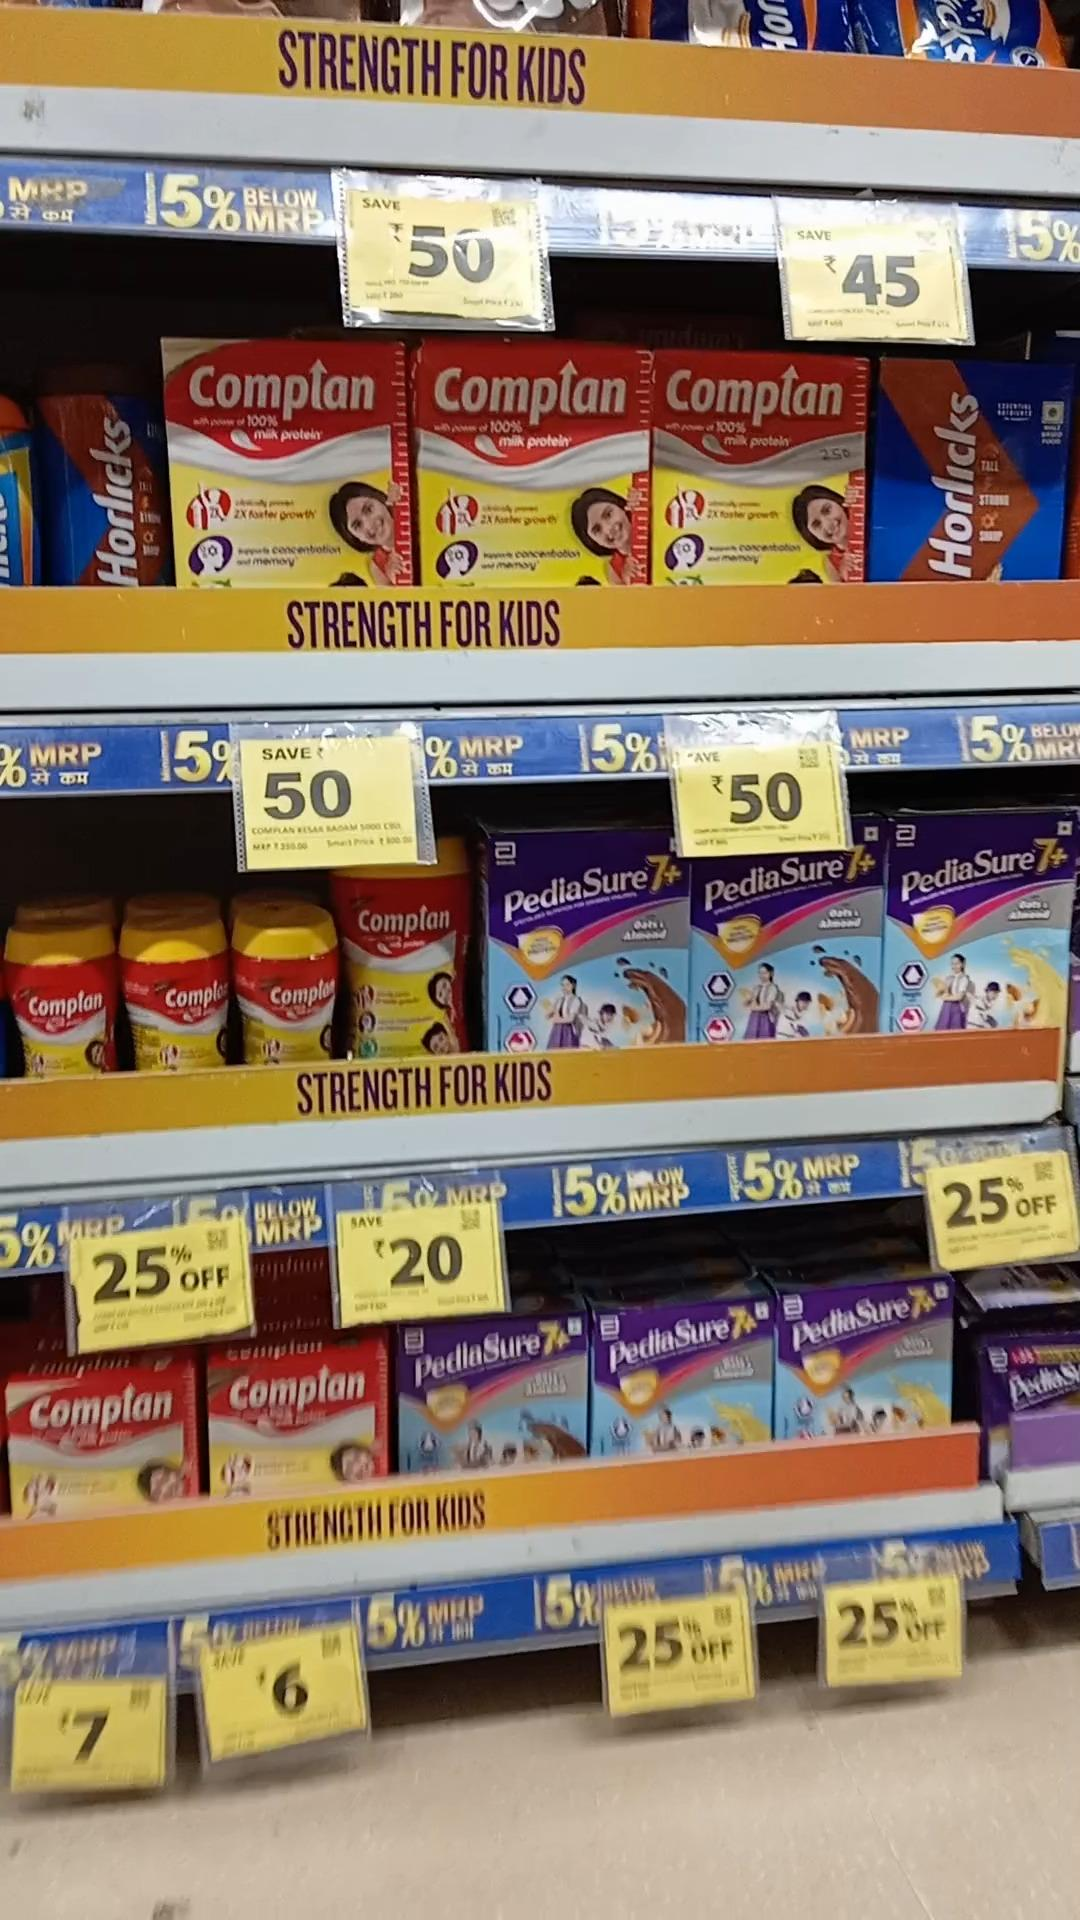COMPLAN_CHOCOLATE_500_GMS_JAR: (353, 856, 469, 1058)
COMPLAN_KESAR_BADAM_500_GMS_PACK: (165, 339, 396, 591)
HORLICK_CHOCOLATE_500_G_JAR: (37, 363, 160, 587)
HORLICK_CHOCOLATE_500_G_PACK: (873, 357, 1080, 576)
PEDIASURE_7_PLUS_CHOCOLATE_400_G_PACK: (495, 831, 687, 1042), (692, 853, 881, 1043)
